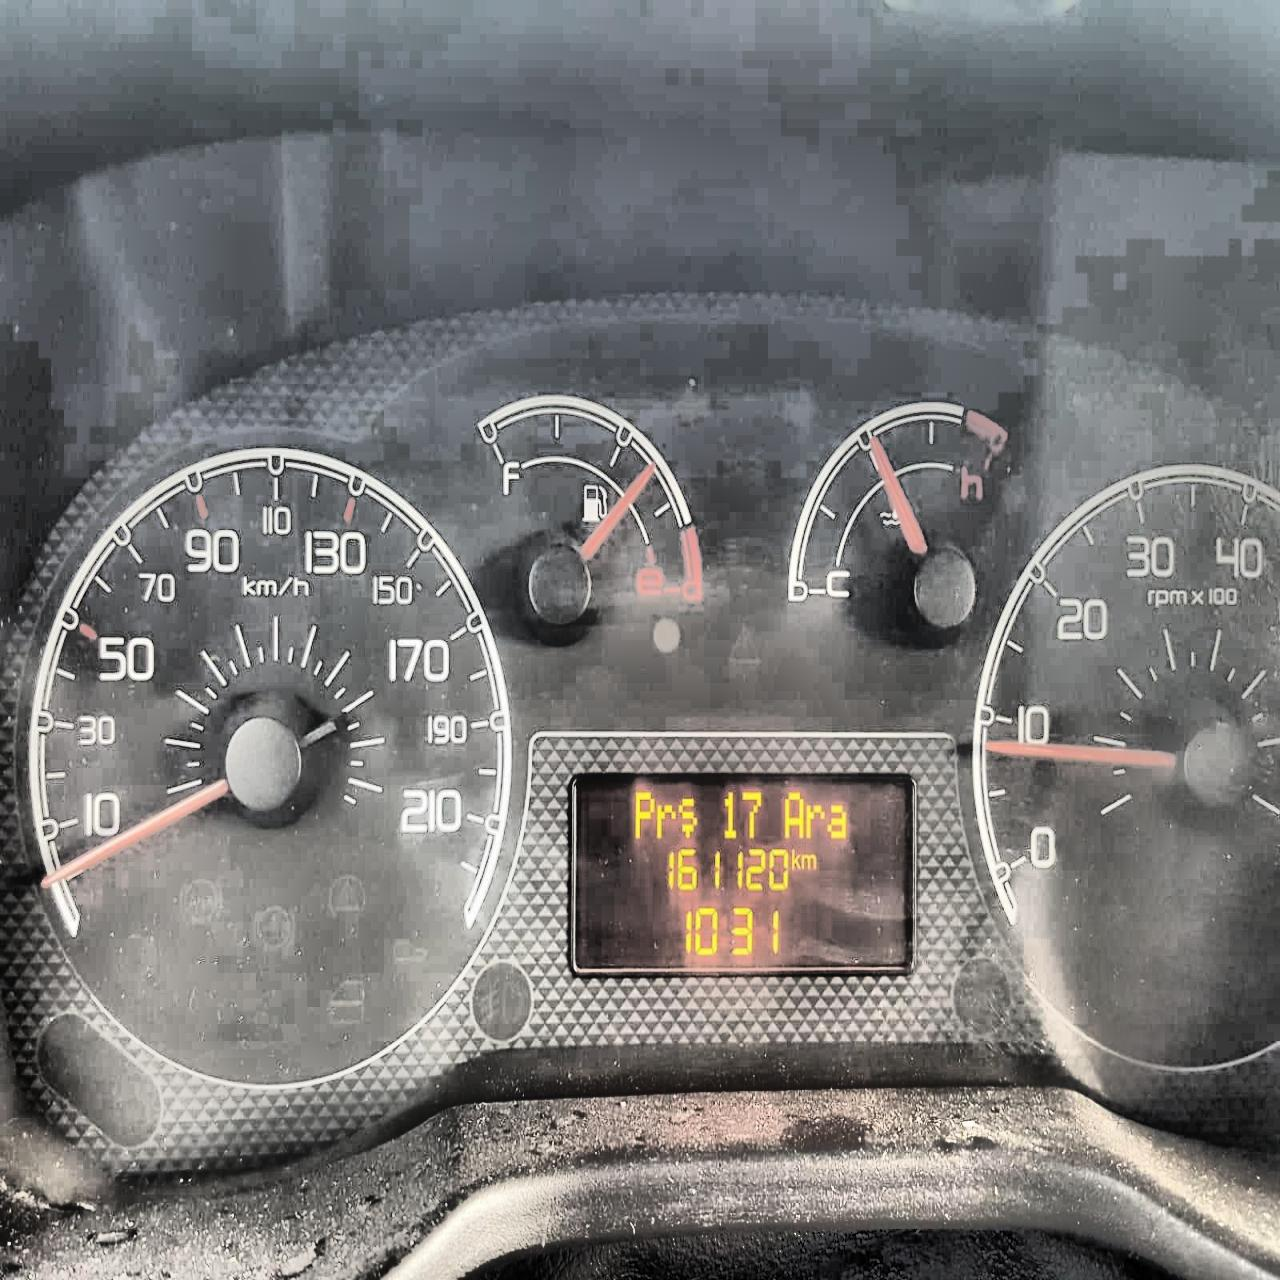0: (694, 906, 717, 954), (768, 849, 788, 890)
1: (722, 790, 737, 838), (685, 907, 692, 954), (771, 910, 778, 952), (667, 850, 674, 890), (713, 850, 720, 888), (736, 850, 743, 888)
2: (744, 847, 767, 890)
3: (729, 906, 753, 954)
6: (676, 849, 697, 890)
7: (740, 790, 761, 838)
X: (633, 790, 654, 838), (783, 791, 803, 838), (676, 797, 697, 838), (655, 803, 675, 838), (826, 803, 846, 838), (805, 803, 824, 838), (799, 852, 817, 869), (790, 847, 801, 870)
odometer: (571, 771, 917, 974)
